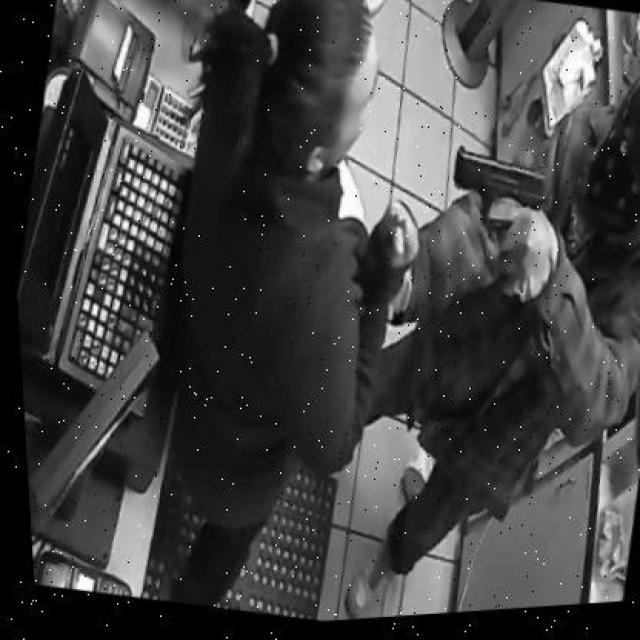weapon: (452, 144, 548, 264)
